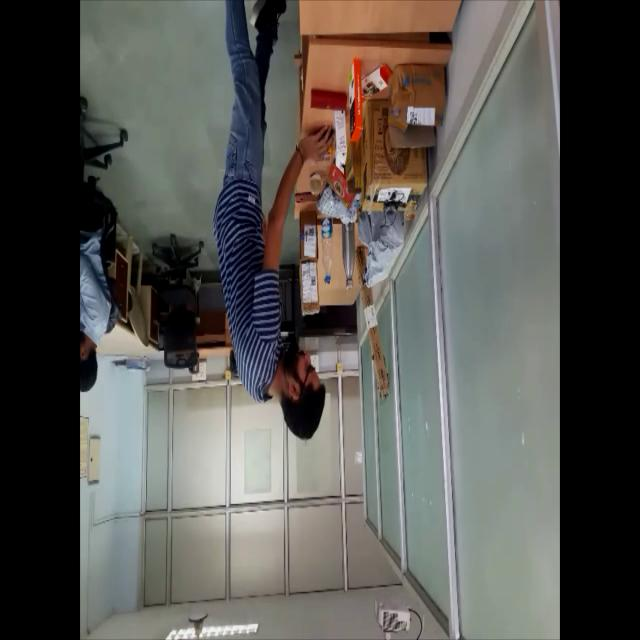normal: (210, 0, 338, 442)
